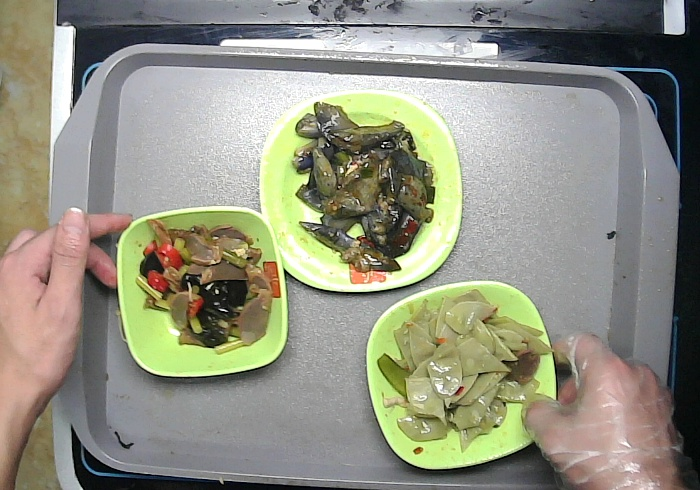SHKJ-Lv_Se_Cai_Die: (365, 280, 557, 470)
SHKJ-Lv_Se_Si_Fang_Cai_Die: (259, 85, 462, 292)
SHKJ-Lv_Se_Xiao_Fang_Die: (116, 207, 290, 377)
